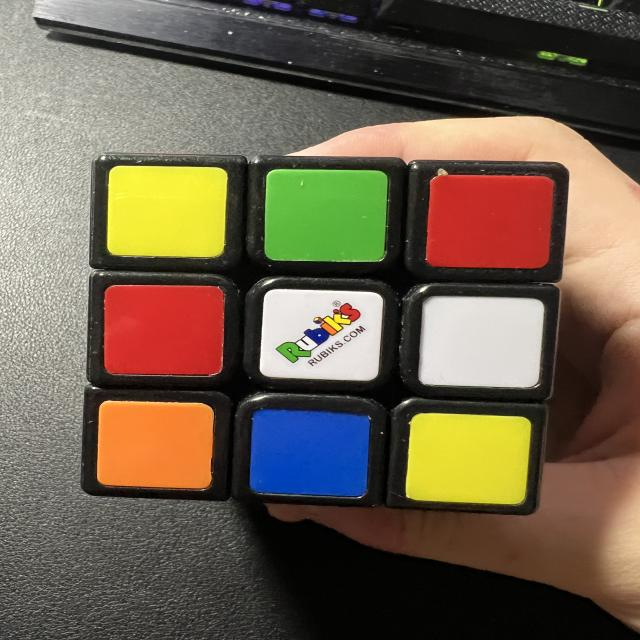blue: (252, 408, 370, 496)
center: (263, 288, 381, 380)
green: (267, 168, 387, 263)
orange: (98, 401, 211, 488)
red: (426, 173, 551, 269), (105, 284, 224, 375)
white: (422, 296, 542, 387)
yellow: (106, 164, 226, 257), (409, 414, 528, 502)
